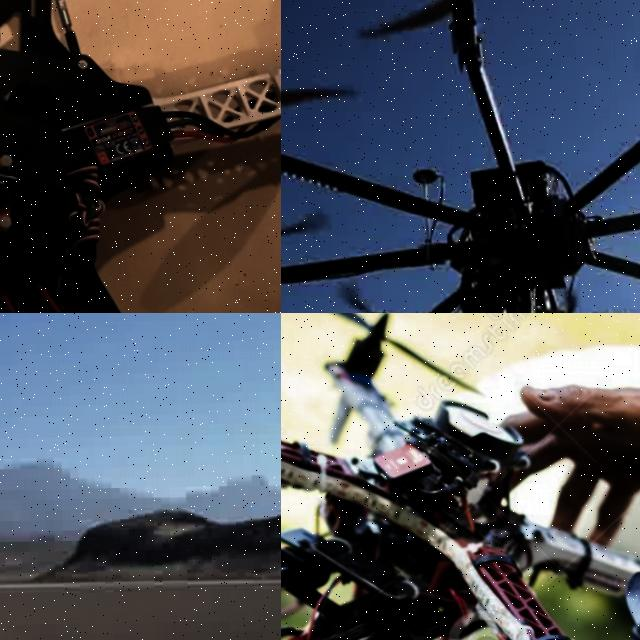drone: (281, 313, 640, 640), (281, 0, 640, 313), (0, 0, 281, 313)
